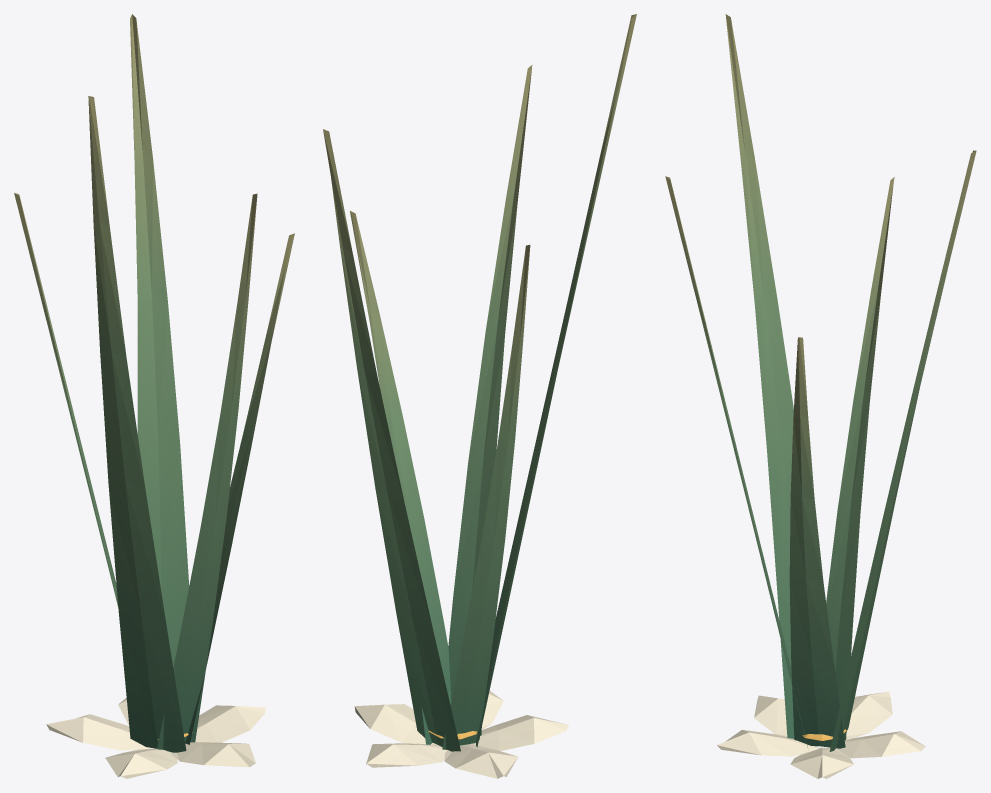
Rendered from world03-meadow-v1.glb.
The picture shows the model from 3 angles, left to right: view 1: azimuth 30°, elevation 25°; view 2: azimuth 150°, elevation 25°; view 3: azimuth 270°, elevation 25°; orthographic projection. The views are drawn at different scales.
Visible parts, largest first — view 1: grass-clump, pearl-flower; view 2: grass-clump, pearl-flower; view 3: grass-clump, pearl-flower.
Part boxes in pixels (bbox=[...]): grass-clump: bbox=[14, 14, 294, 752]; pearl-flower: bbox=[46, 697, 265, 778]; grass-clump: bbox=[323, 14, 636, 751]; pearl-flower: bbox=[354, 690, 568, 778]; grass-clump: bbox=[665, 14, 976, 751]; pearl-flower: bbox=[717, 691, 925, 778].
Size of the model in its own units: 0.4319 by 1.21 by 0.5075.
